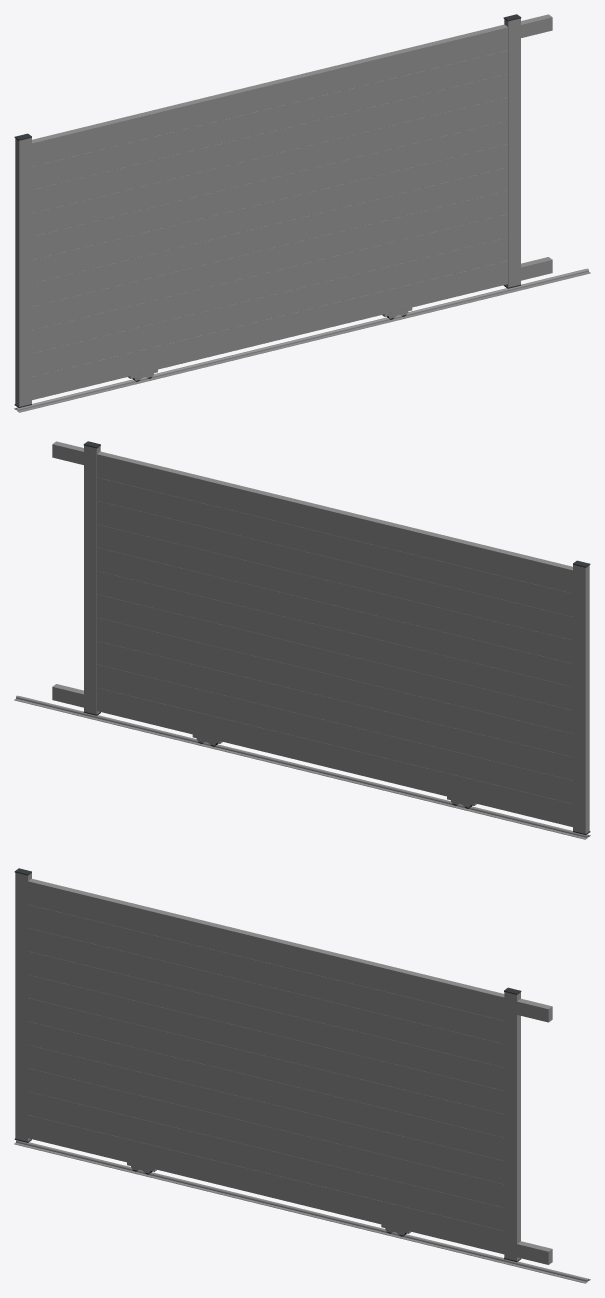
The picture shows the model from 3 angles, top to bottom: view 1: azimuth 30°, elevation 25°; view 2: azimuth 150°, elevation 25°; view 3: azimuth 330°, elevation 25°; orthographic projection.
Visible parts, largest first — view 1: Shape107411780, Shape107412822, Shape107411789, Shape107411787, Shape107411788, Shape107411786, Shape107411785, Shape107411783, Shape107411782, Shape107411781, Shape107411784, Pilar (+4 smaller); view 2: Shape107411780, Shape107412822, Shape107411789, Shape107411788, Shape107411784, Shape107411782, Shape107411786, Shape107411783, Shape107411781, Shape107411785, Shape107411787, Pilar (+4 smaller); view 3: Shape107411780, Shape107412822, Shape107411789, Shape107411785, Shape107411787, Shape107411783, Shape107411781, Shape107411786, Shape107411784, Shape107411782, Shape107411788, Pilar001 (+4 smaller).
Boxes of the visible parts, bbox=[...] form: Shape107411780: bbox=[32, 24, 507, 166]; Shape107412822: bbox=[32, 261, 507, 400]; Shape107411789: bbox=[32, 50, 507, 189]; Shape107411787: bbox=[32, 97, 507, 236]; Shape107411788: bbox=[32, 74, 507, 213]; Shape107411786: bbox=[32, 120, 507, 259]; Shape107411785: bbox=[32, 144, 507, 283]; Shape107411783: bbox=[32, 190, 507, 329]; Shape107411782: bbox=[32, 214, 507, 353]; Shape107411781: bbox=[32, 237, 507, 376]; Shape107411784: bbox=[32, 167, 507, 306]; Pilar: bbox=[15, 137, 31, 406]; Shape107411780: bbox=[97, 451, 572, 593]; Shape107412822: bbox=[97, 688, 572, 826]; Shape107411789: bbox=[97, 477, 572, 616]; Shape107411788: bbox=[97, 501, 572, 640]; Shape107411784: bbox=[97, 594, 572, 733]; Shape107411782: bbox=[97, 641, 572, 780]; Shape107411786: bbox=[97, 547, 572, 686]; Shape107411783: bbox=[97, 617, 572, 756]; Shape107411781: bbox=[97, 664, 572, 803]; Shape107411785: bbox=[97, 571, 572, 710]; Shape107411787: bbox=[97, 524, 572, 663]; Pilar: bbox=[573, 564, 589, 833]; Shape107411780: bbox=[28, 878, 504, 1020]; Shape107412822: bbox=[28, 1115, 504, 1254]; Shape107411789: bbox=[28, 904, 504, 1043]; Shape107411785: bbox=[28, 998, 504, 1137]; Shape107411787: bbox=[28, 951, 504, 1090]; Shape107411783: bbox=[28, 1045, 504, 1183]; Shape107411781: bbox=[28, 1091, 504, 1230]; Shape107411786: bbox=[28, 974, 504, 1113]; Shape107411784: bbox=[28, 1021, 504, 1160]; Shape107411782: bbox=[28, 1068, 504, 1207]; Shape107411788: bbox=[28, 928, 504, 1067]; Pilar001: bbox=[504, 992, 520, 1260].
Size of the model in its own units: 3600 by 1640 by 60.02.
5 materials, 2 textured.
